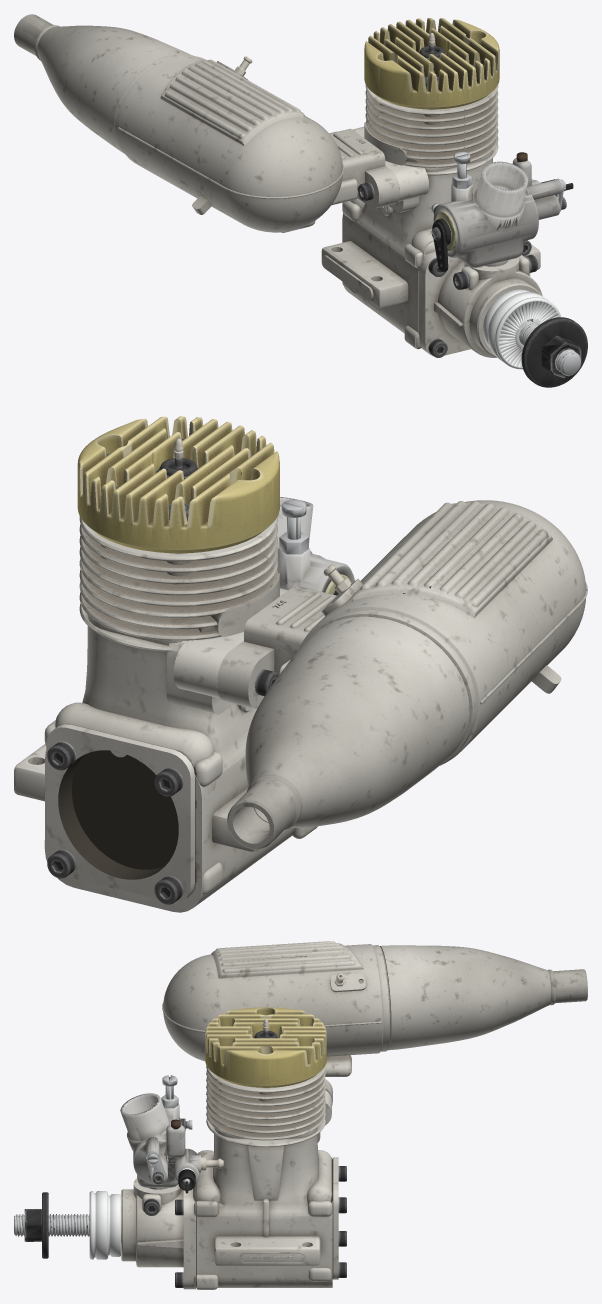
Rendered from glow_engine_61_SE_realtime.glb.
3 renders of one model, top to bottom at view 1: azimuth 30°, elevation 25°; view 2: azimuth 150°, elevation 25°; view 3: azimuth 270°, elevation 25°, orthographic. The views are drawn at different scales.
Visible parts, largest first — view 1: RT_Muffler, RT_Body, RT_Head, RT_Carb, RT_Drive; view 2: RT_Muffler, RT_Body, RT_Head, RT_Carb; view 3: RT_Body, RT_Muffler, RT_Head, RT_Carb, RT_Drive.
Part boxes in pixels (x1=…): RT_Muffler: x1=14, y1=14, x2=399, y2=232; RT_Body: x1=321, y1=85, x2=542, y2=357; RT_Head: x1=364, y1=18, x2=499, y2=109; RT_Carb: x1=431, y1=152, x2=573, y2=272; RT_Drive: x1=483, y1=289, x2=587, y2=387; RT_Muffler: x1=217, y1=500, x2=587, y2=849; RT_Body: x1=14, y1=516, x2=317, y2=912; RT_Head: x1=77, y1=416, x2=279, y2=553; RT_Carb: x1=277, y1=497, x2=354, y2=595; RT_Body: x1=121, y1=1065, x2=346, y2=1289; RT_Muffler: x1=162, y1=941, x2=587, y2=1105; RT_Head: x1=205, y1=1007, x2=326, y2=1087; RT_Carb: x1=120, y1=1075, x2=223, y2=1193; RT_Drive: x1=14, y1=1191, x2=121, y2=1259.
Size of the model in its own units: 0.1292 by 0.0974 by 0.2004.
5 materials, 5 textured.
